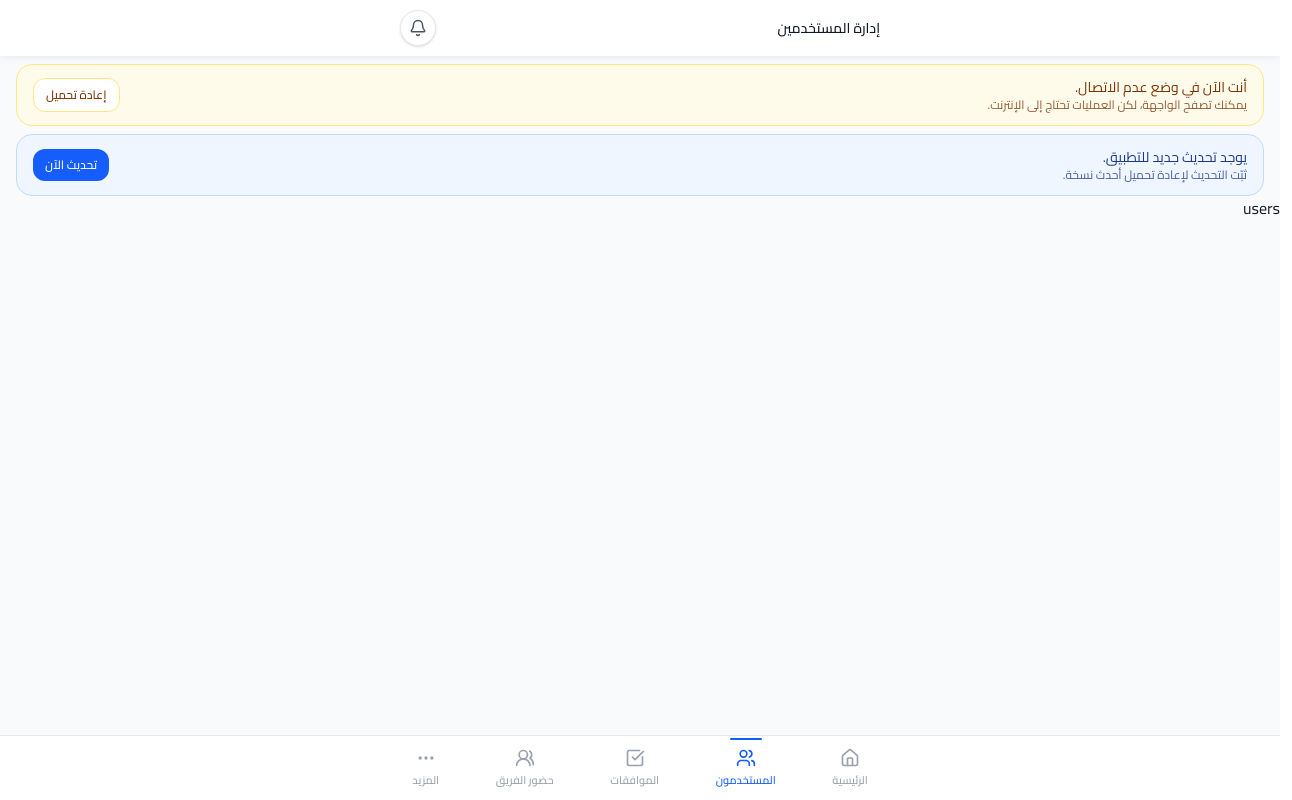
Test case: MobileLayout › scrolls to top when bottom navigation changes route
Step 1. Click the button "الموافقات" → [635, 768], box [598,740,671,796]
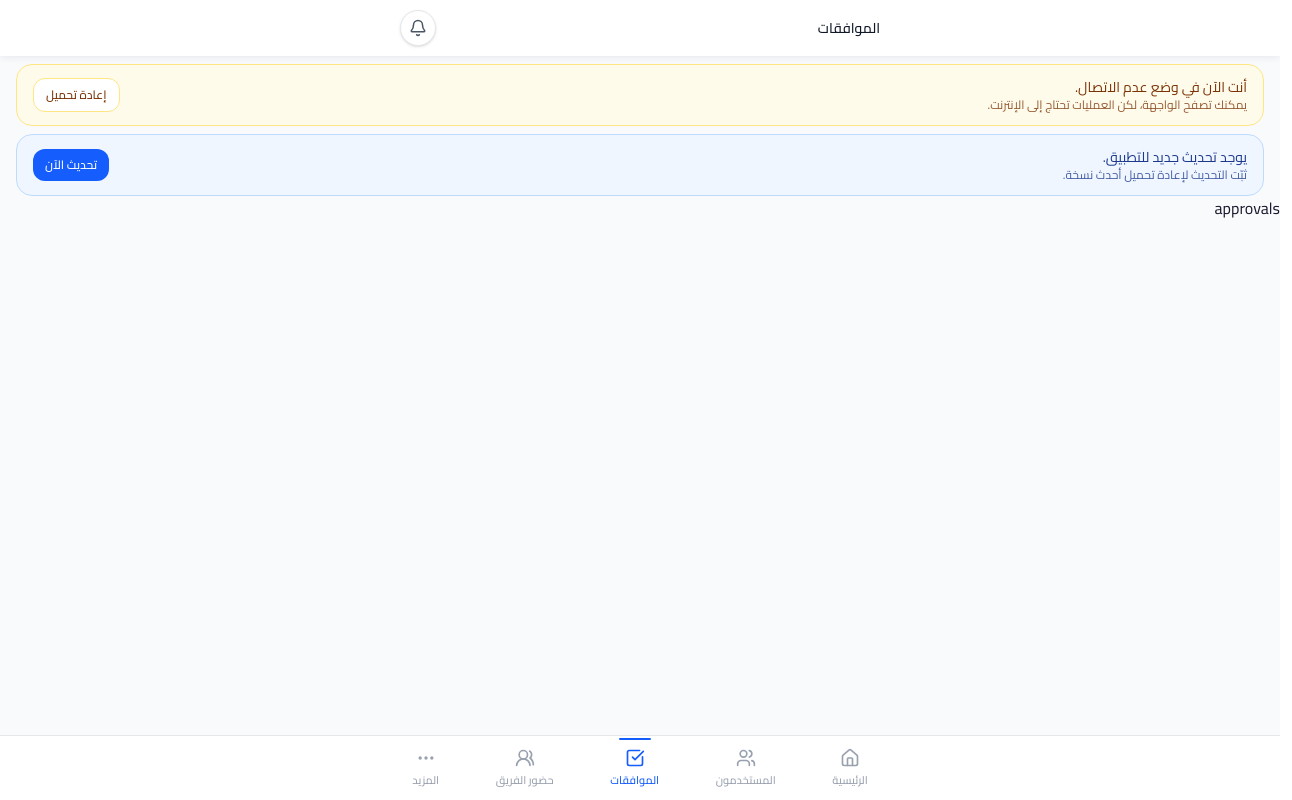
Check: the text "approvals" is shown, box [1214,193,1280,223]
